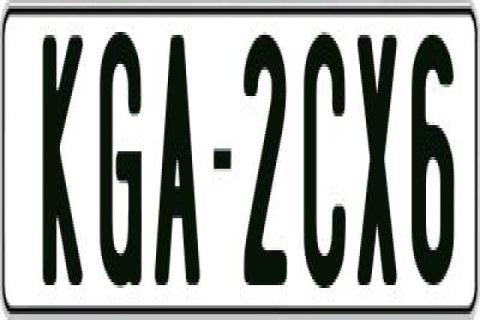0: (411, 35, 455, 299), (243, 32, 287, 282)
A: (154, 32, 200, 291)
C: (302, 27, 348, 286)
G: (100, 29, 146, 288)
K: (44, 29, 85, 294)
X: (357, 26, 401, 282)
